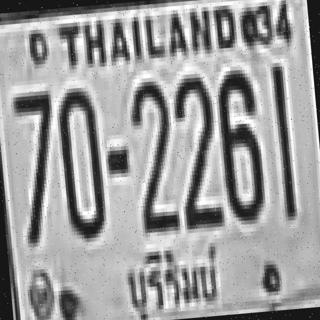N00: (54, 83, 105, 236)
N01: (270, 61, 294, 215)
N02: (170, 70, 221, 228), (127, 76, 178, 234)
N06: (213, 65, 264, 222)
N07: (10, 87, 61, 244)
P06: (116, 238, 223, 320)
